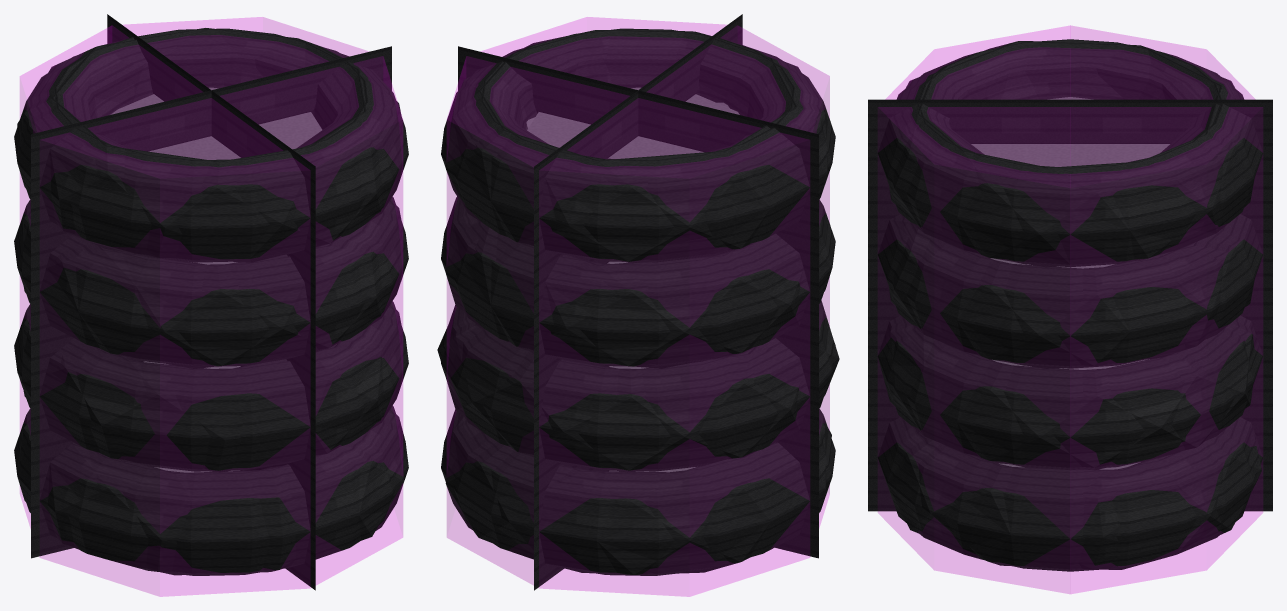
Rendered from tire_stack_4.dae.
The picture shows the model from 3 angles, left to right: view 1: azimuth 30°, elevation 25°; view 2: azimuth 150°, elevation 25°; view 3: azimuth 270°, elevation 25°; orthographic projection. The views are drawn at different scales.
Parts seen in each view (by area): view 1: tire_stack_4_a800, Colmesh_stack-1, tire_stack_4_a200, tire_stack_4_a50; view 2: tire_stack_4_a800, Colmesh_stack-1, tire_stack_4_a200, tire_stack_4_a50; view 3: tire_stack_4_a800, Colmesh_stack-1, tire_stack_4_a200, tire_stack_4_a50.
Part boxes in pixels (x1,y1,x2,y2): tire_stack_4_a800: (14, 28, 408, 575); Colmesh_stack-1: (20, 17, 402, 596); tire_stack_4_a200: (17, 28, 408, 575); tire_stack_4_a50: (31, 14, 391, 590); tire_stack_4_a800: (441, 28, 835, 575); Colmesh_stack-1: (447, 17, 829, 596); tire_stack_4_a200: (437, 30, 839, 574); tire_stack_4_a50: (458, 14, 818, 590); tire_stack_4_a800: (877, 39, 1263, 571); Colmesh_stack-1: (878, 25, 1262, 593); tire_stack_4_a200: (878, 41, 1261, 569); tire_stack_4_a50: (868, 99, 1272, 511).
Size of the model in its own units: 0.798 by 0.798 by 0.8992.
Materials: 3 (2 with a texture image).
